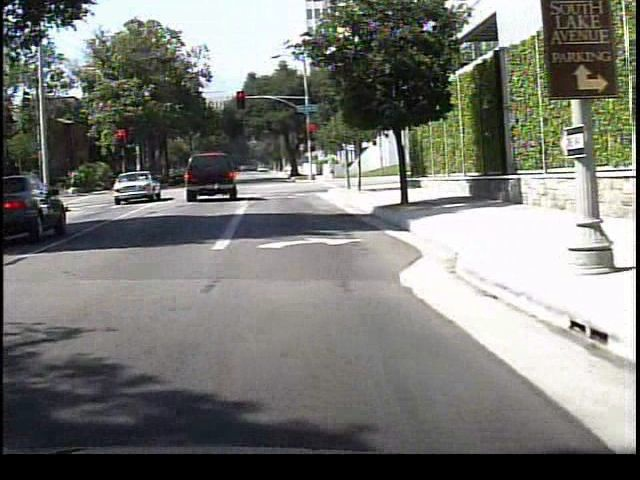person: (324, 154, 340, 182)
